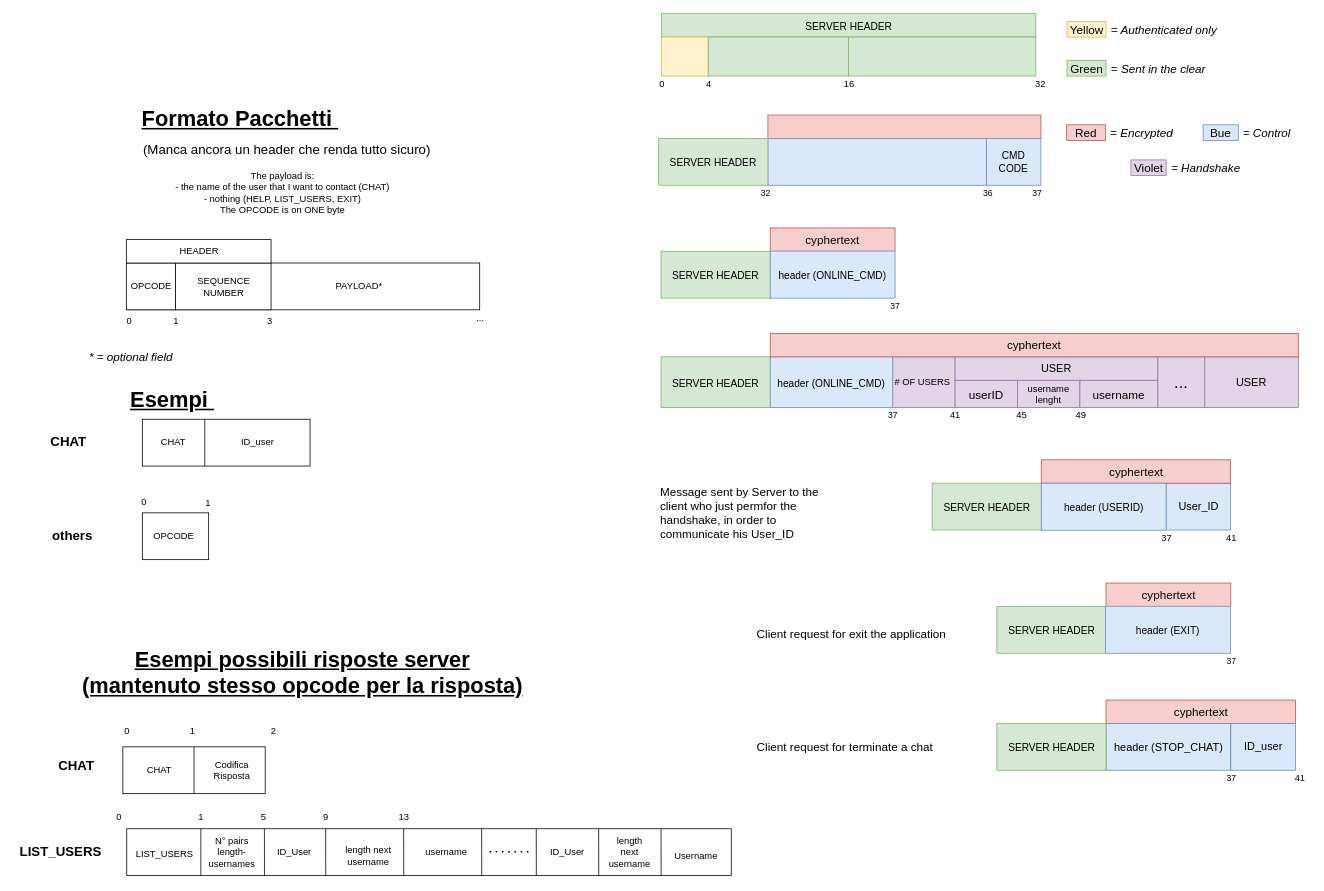
Some shapes in this 1324 by 891 pixel diagram are drawn without their labels. The shapes that lost their labels are listed below. From the top down, each one's box as (x1, y1, x2, y2) in pixels, then its label:
(661, 36, 708, 76): cyphertext lenght
(707, 36, 849, 76): IV
(848, 36, 1036, 76): tag
(767, 114, 1041, 138): cyphertext header (CMD)
(767, 138, 986, 185): sequemce number
